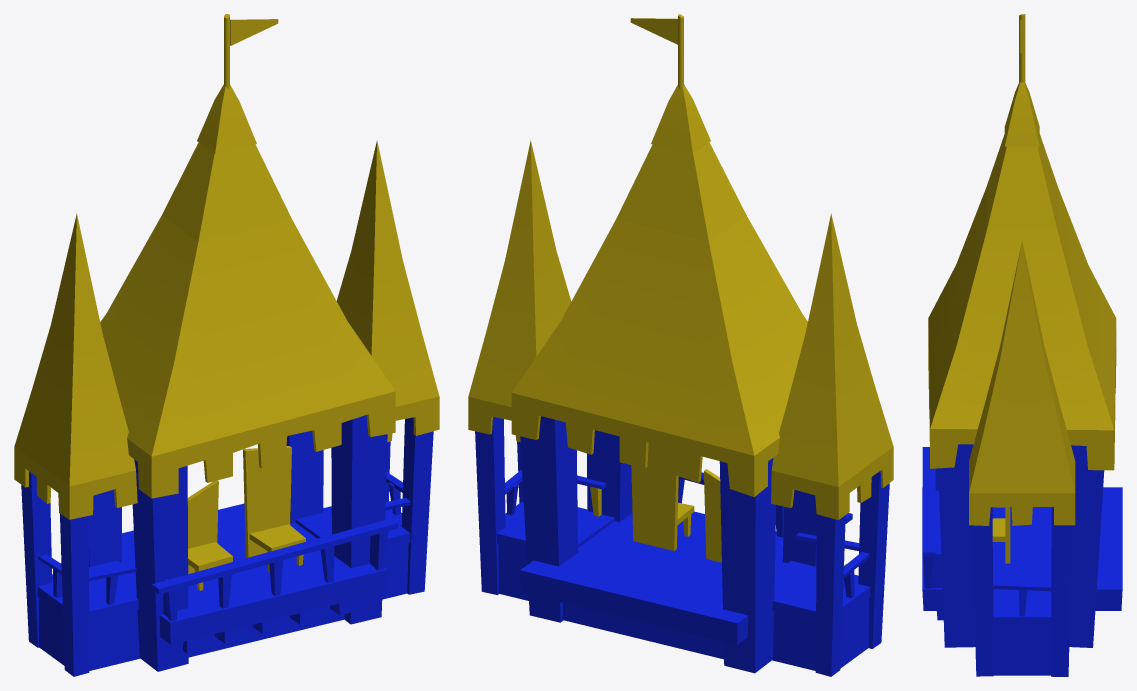
File: SM_Tribune_low.fbx
3 renders of one model, left to right at view 1: azimuth 30°, elevation 25°; view 2: azimuth 150°, elevation 25°; view 3: azimuth 270°, elevation 25°, orthographic. The views are drawn at different scales.
Visible parts, largest first — view 1: SM_Tribune_low; view 2: SM_Tribune_low; view 3: SM_Tribune_low.
Boxes of the visible parts, x1,y1,x2,y2 form: SM_Tribune_low: (14,14,439,676); SM_Tribune_low: (468,14,893,676); SM_Tribune_low: (922,14,1122,676).
Size of the model in its own units: 669 by 1039 by 325.
